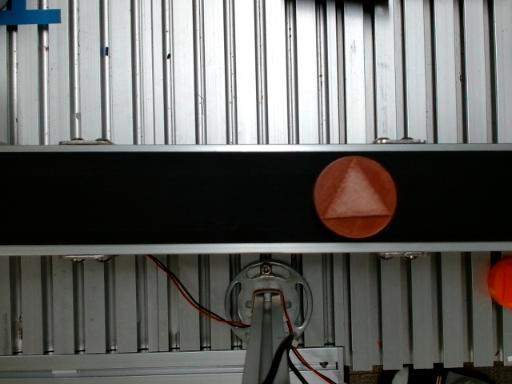Brown_Waper: (314, 156, 396, 238)
Not_Square: (320, 156, 393, 219)
